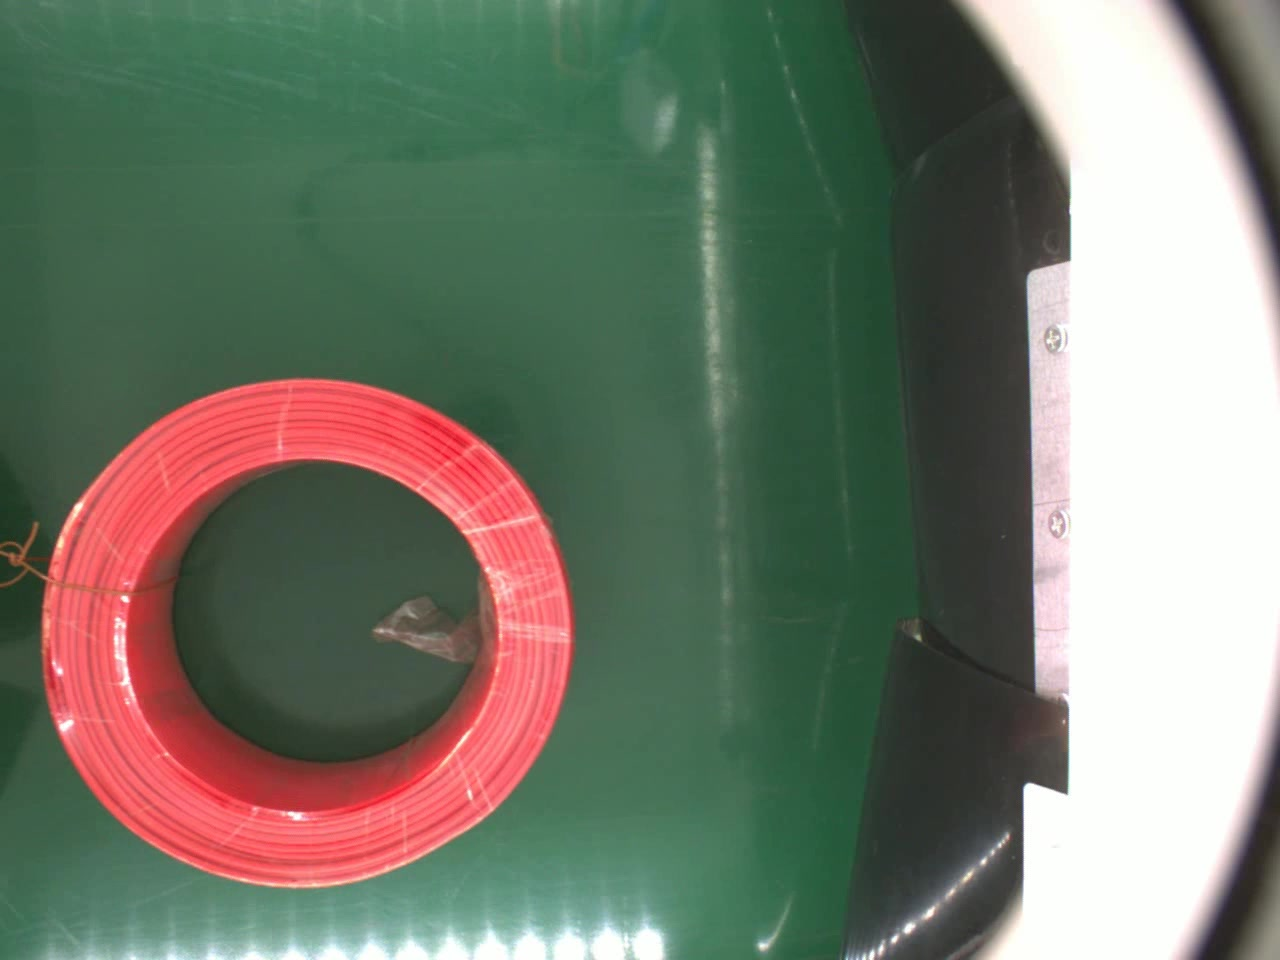red: (31, 370, 577, 895)
